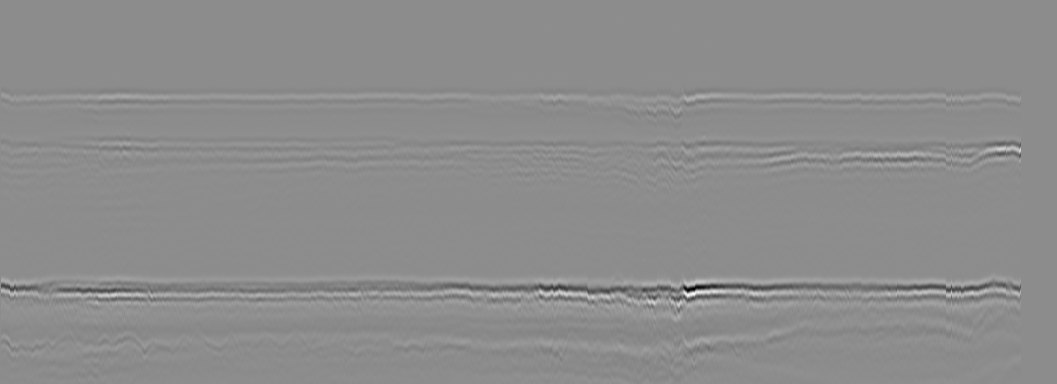fault: (664, 136, 693, 191), (664, 83, 690, 125)
